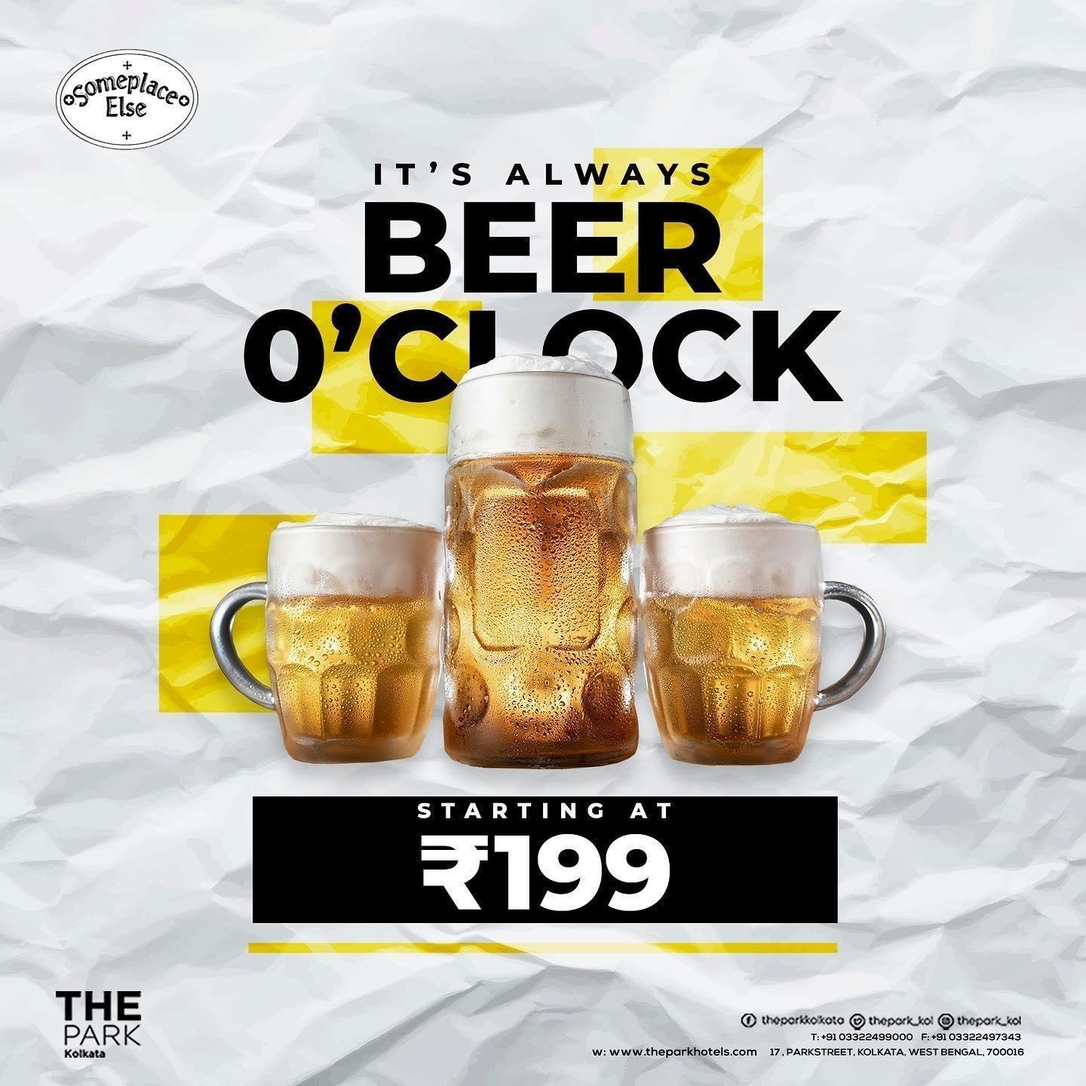glass-mug: (434, 360, 652, 780), (639, 505, 894, 772), (201, 512, 448, 768)
